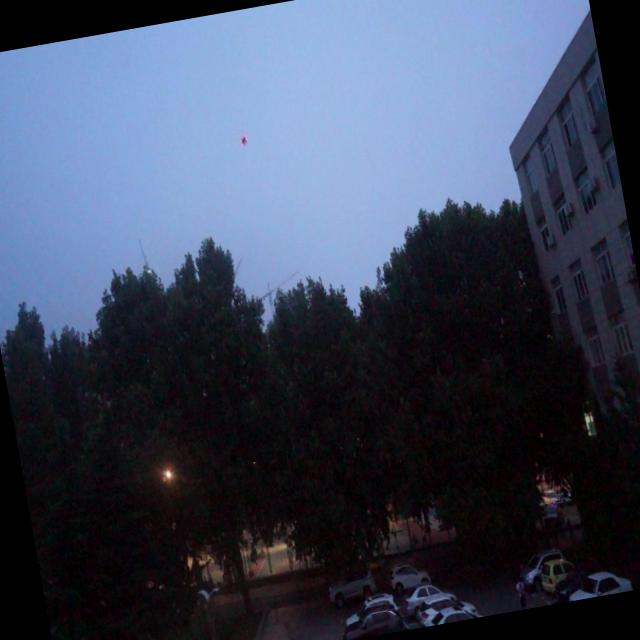drone: (237, 130, 250, 150)
